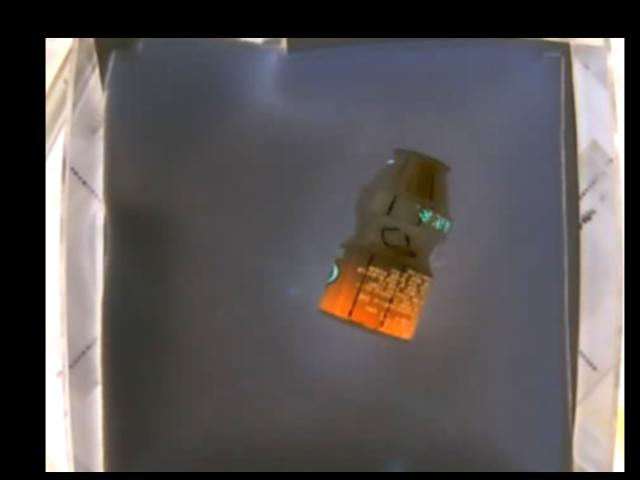Bottle: (316, 148, 449, 342)
